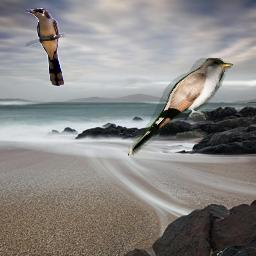Cuckoo: (128, 58, 234, 156), (26, 8, 65, 87)
